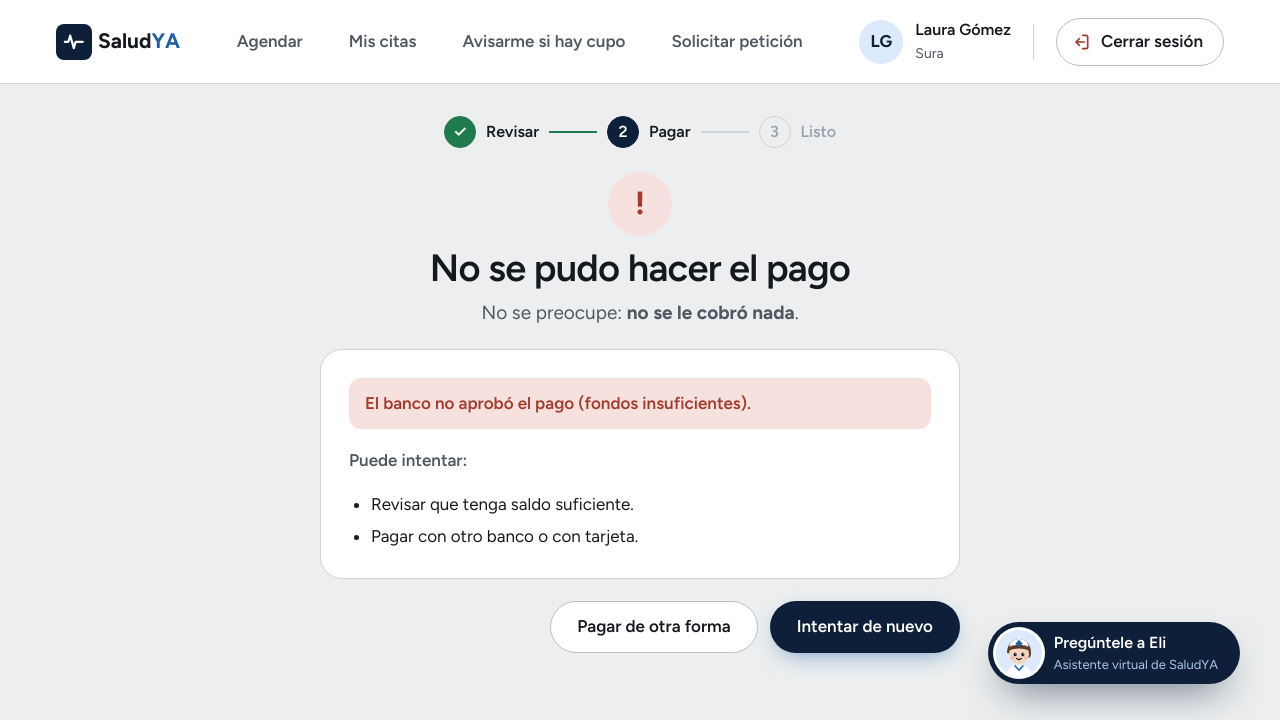
Pago en línea de una cita atendida › rechazado: no se le cobró nada, y 'Intentar de nuevo' vuelve al mismo medio de pago
expect the heading "No se pudo hacer el pago" is shown: met, box [430,248,850,290]
expect the text "no se le cobró nada" is shown: met, box [627,301,795,324]
Click the link "Intentar de nuevo".
click(865, 627)  # box [770,601,960,653]
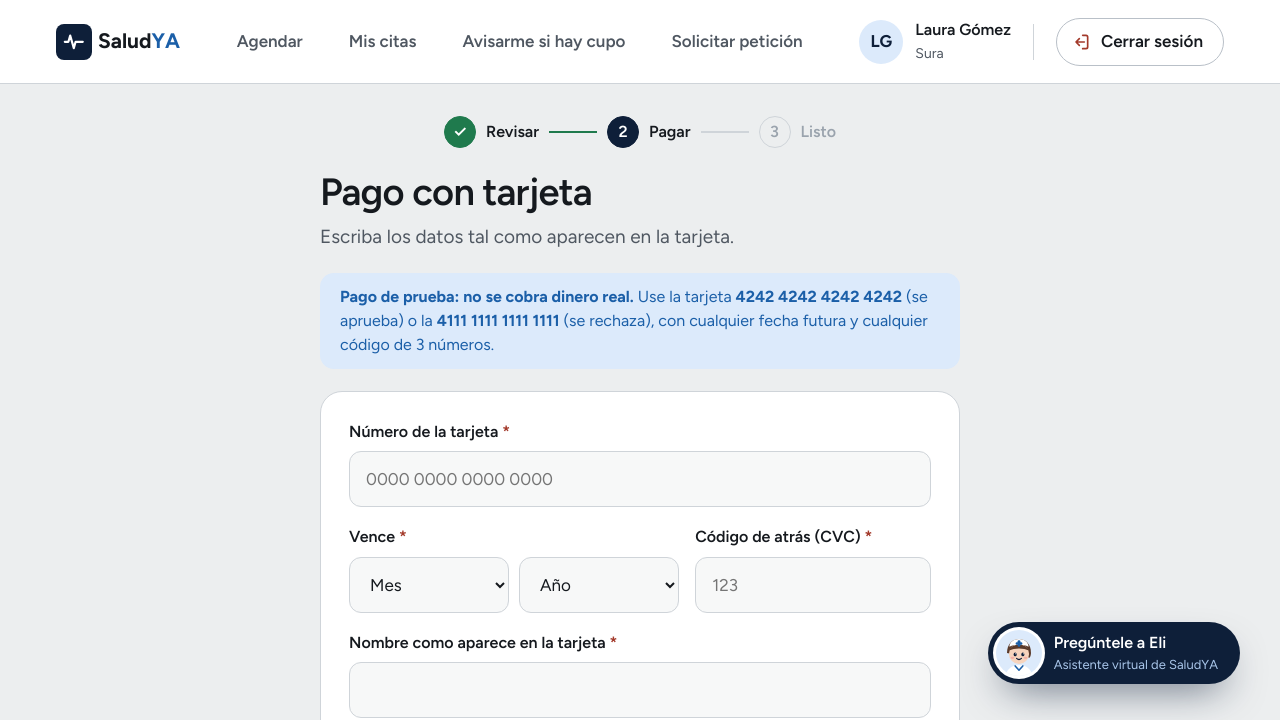
expect the heading "Pago con tarjeta" is shown: met, box [320,169,592,215]
